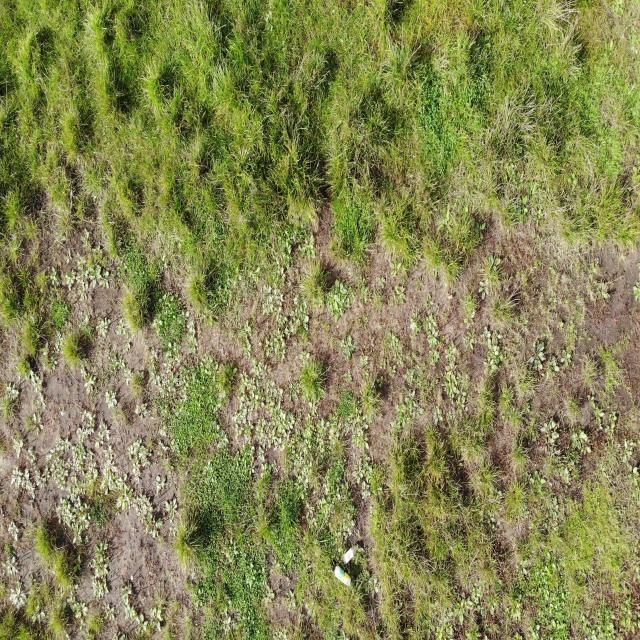rubbish: (332, 566, 352, 587), (341, 546, 358, 566)
